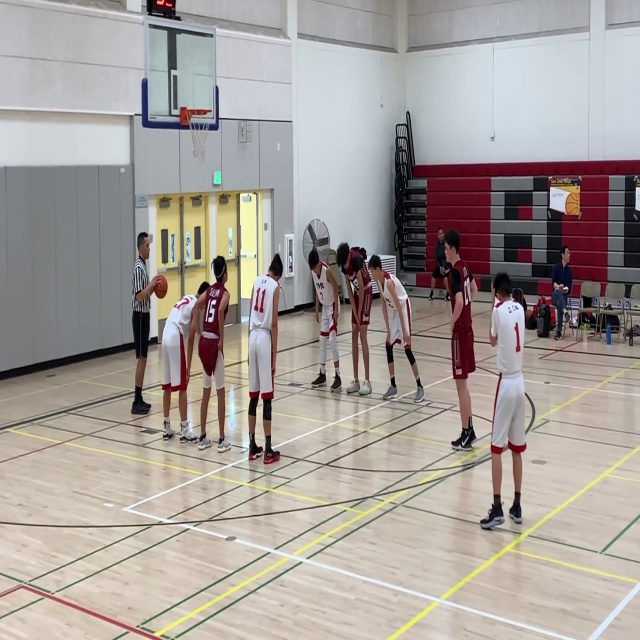Basketball: (152, 275, 168, 299)
